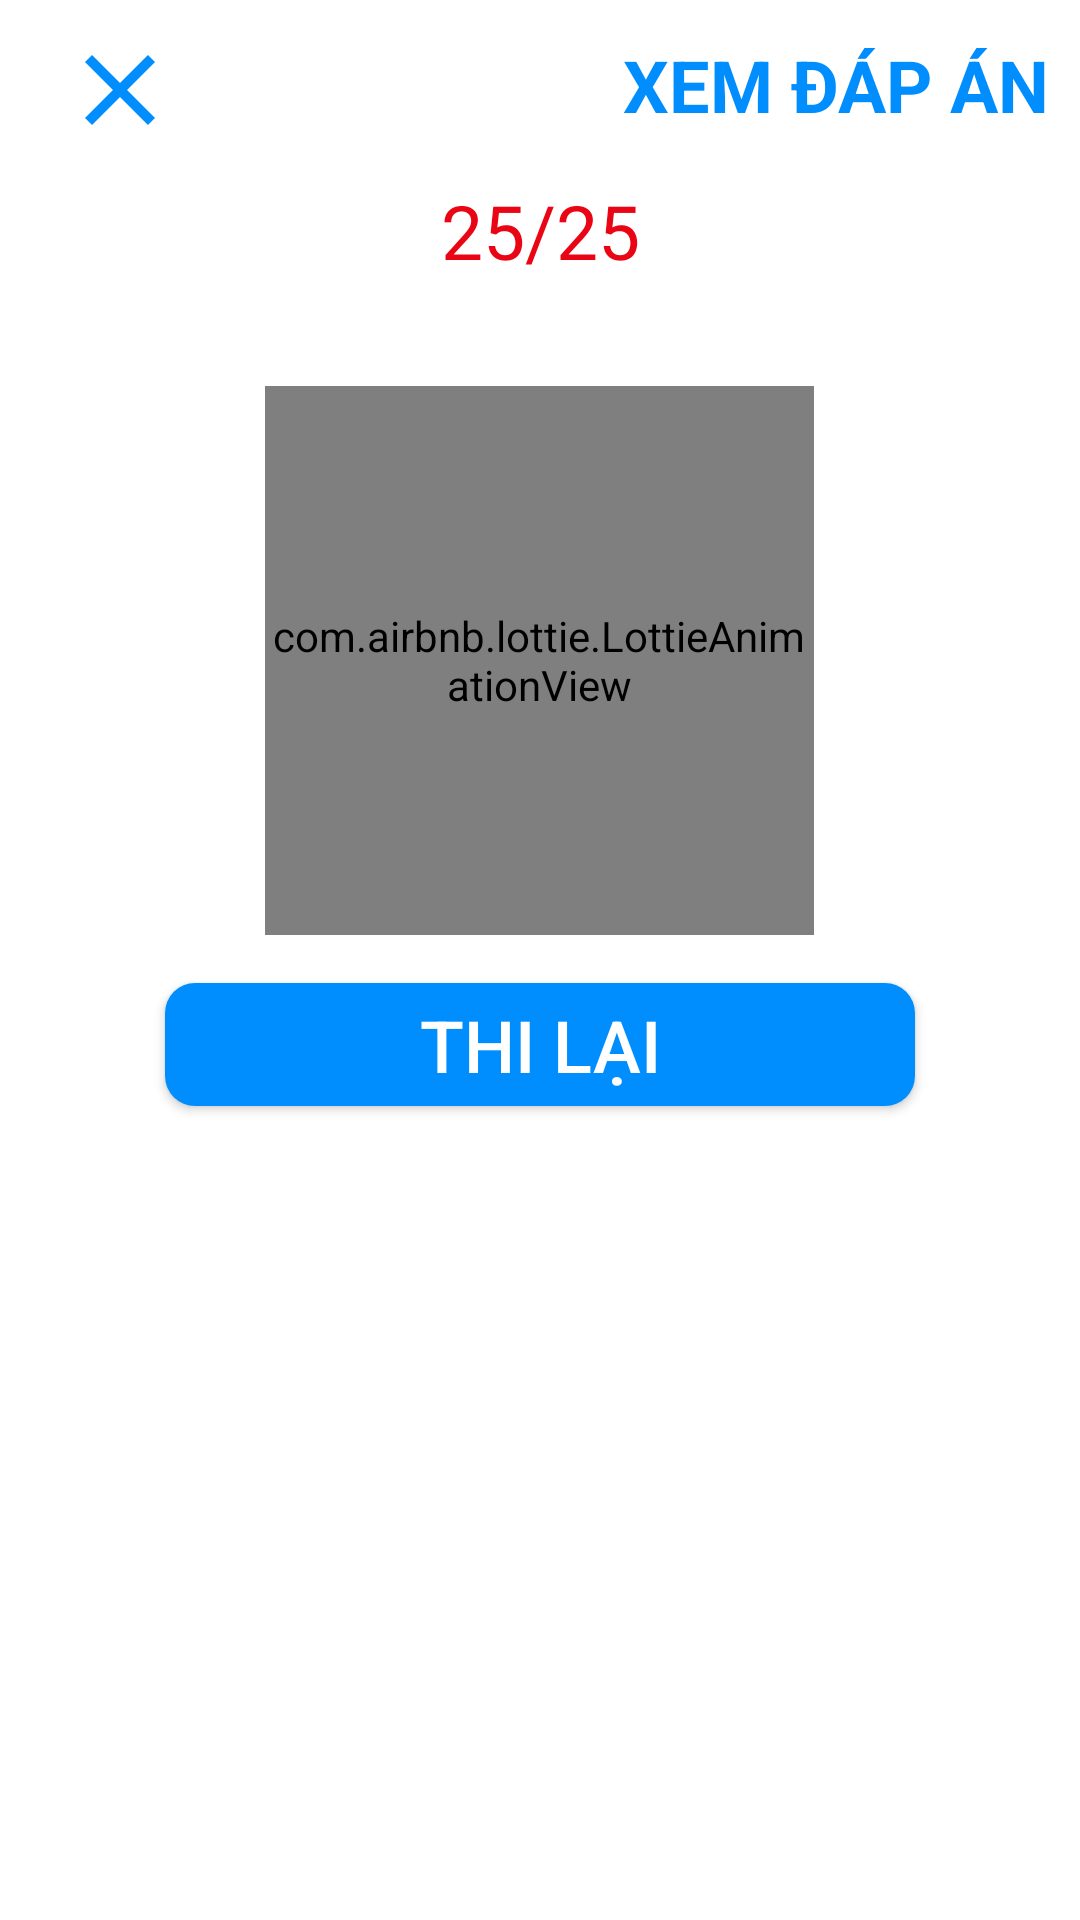

Screen size 1080px×1920px. Icon name, then its center in pixels as [x,y]:
clear: [120,90]
